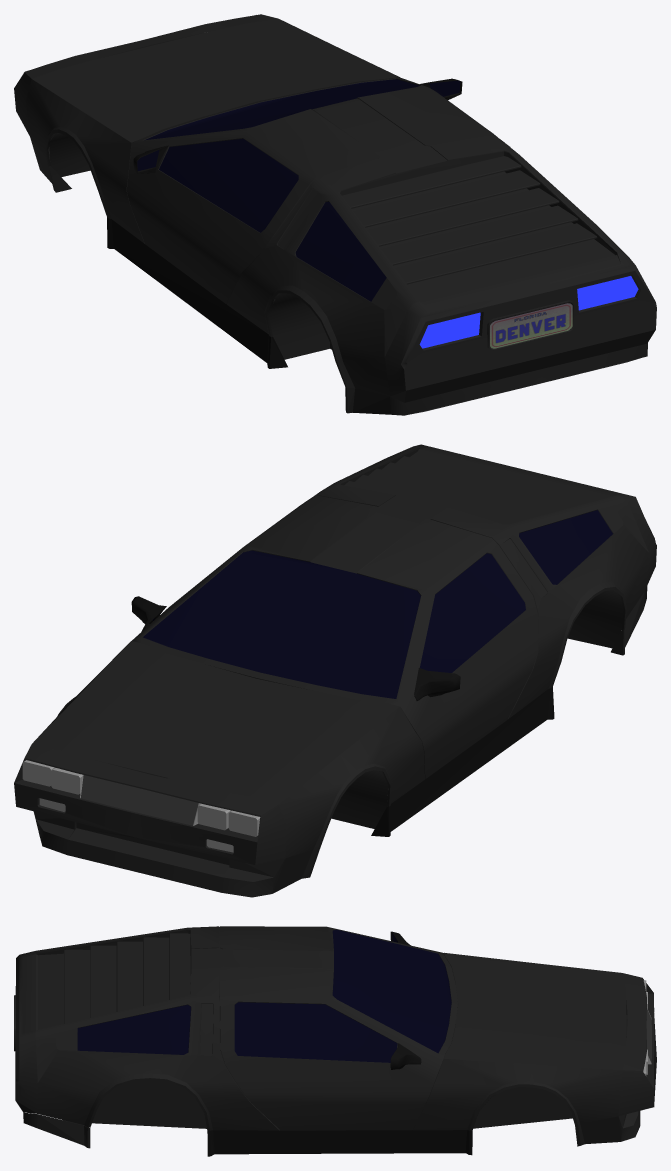
The model's file is dolores_1200 (1).fbx.
3 views of the same model, one above another, from view 1: azimuth 30°, elevation 25°; view 2: azimuth 150°, elevation 25°; view 3: azimuth 270°, elevation 25° (orthographic). The views are drawn at different scales.
Parts seen in each view (by area): view 1: Object017; view 2: Object017; view 3: Object017.
Boxes of the visible parts, left/top/right/bottom form: Object017: left=14, top=14, right=656, bottom=415; Object017: left=14, top=444, right=656, bottom=897; Object017: left=14, top=926, right=656, bottom=1156.
Size of the model in its own units: 0.0497 by 0.1051 by 0.0263.
